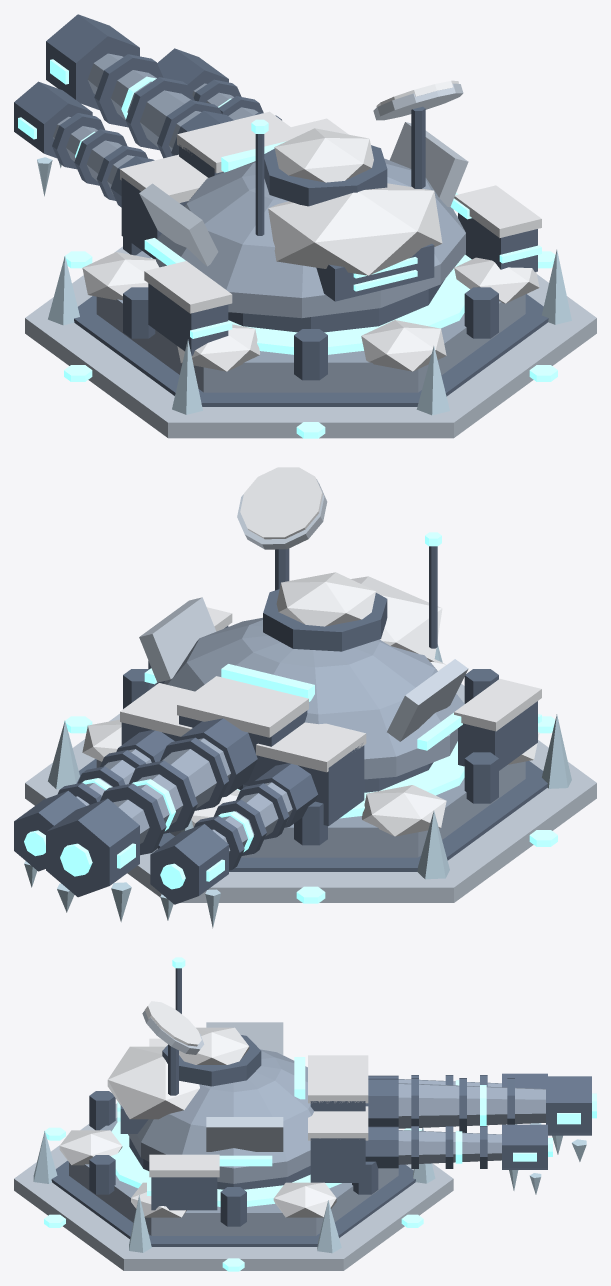
File: turret_lvl5.fbx
The picture shows the model from 3 angles, top to bottom: view 1: azimuth 30°, elevation 25°; view 2: azimuth 150°, elevation 25°; view 3: azimuth 270°, elevation 25°; orthographic projection. The views are drawn at different scales.
Visible parts, largest first — view 1: BaseTier_70, Dome_05, SnowBlanket_80, Base_01, BaseSkirt_02, MuzzleBrake_43, SnowCupola_93, Neon_BaseRing_03, Pivot_04, SnowCap_36, SnowMound_85, Cupola_69 (+36 smaller); view 2: Dome_05, BaseTier_70, Base_01, MuzzleBrake_43, BaseSkirt_02, SnowCap_36, SnowDish_96, SnowCupola_93, MuzzleBrake_15, Cupola_69, ArmorPlate_56, SnowCap_08 (+36 smaller); view 3: BaseTier_70, Dome_05, Base_01, BaseSkirt_02, BarrelTube_38, SnowBlanket_80, ArmorPlate_56, SnowCap_36, BarrelMount_21, MuzzleBrake_43, BarrelTube_24, SaddleBag_67 (+29 smaller).
Part boxes in pixels (x1,y1,x2,y2): BaseTier_70: [25, 215, 596, 438]; Dome_05: [156, 158, 465, 318]; SnowBlanket_80: [268, 183, 442, 275]; Base_01: [96, 251, 525, 392]; BaseSkirt_02: [74, 294, 548, 406]; MuzzleBrake_43: [46, 14, 139, 109]; SnowCupola_93: [274, 128, 373, 182]; Neon_BaseRing_03: [151, 254, 471, 354]; Pivot_04: [228, 279, 444, 332]; SnowCap_36: [177, 111, 300, 173]; SnowMound_85: [361, 320, 446, 371]; Cupola_69: [264, 145, 387, 206]; Dome_05: [163, 617, 464, 779]; BaseTier_70: [25, 683, 596, 902]; Base_01: [96, 760, 525, 857]; MuzzleBrake_43: [46, 798, 139, 897]; BaseSkirt_02: [76, 759, 547, 871]; SnowCap_36: [177, 676, 308, 737]; SnowDish_96: [240, 467, 322, 539]; SnowCupola_93: [276, 572, 375, 626]; MuzzleBrake_15: [150, 824, 228, 904]; Cupola_69: [263, 589, 387, 651]; ArmorPlate_56: [139, 597, 216, 682]; SnowCap_08: [256, 722, 366, 772]; BaseTier_70: [14, 1103, 453, 1270]; Dome_05: [128, 1049, 314, 1183]; Base_01: [69, 1117, 398, 1235]; BaseSkirt_02: [51, 1160, 415, 1246]; BarrelTube_38: [398, 1083, 545, 1128]; SnowBlanket_80: [107, 1046, 199, 1119]; ArmorPlate_56: [206, 1117, 283, 1151]; SnowCap_36: [308, 1060, 368, 1103]; BarrelMount_21: [310, 1138, 365, 1182]; MuzzleBrake_43: [546, 1076, 591, 1135]; BarrelTube_24: [398, 1130, 501, 1164]; SaddleBag_67: [151, 1177, 217, 1210].
Bounding box in the file's own units: 511 × 275 × 690.
